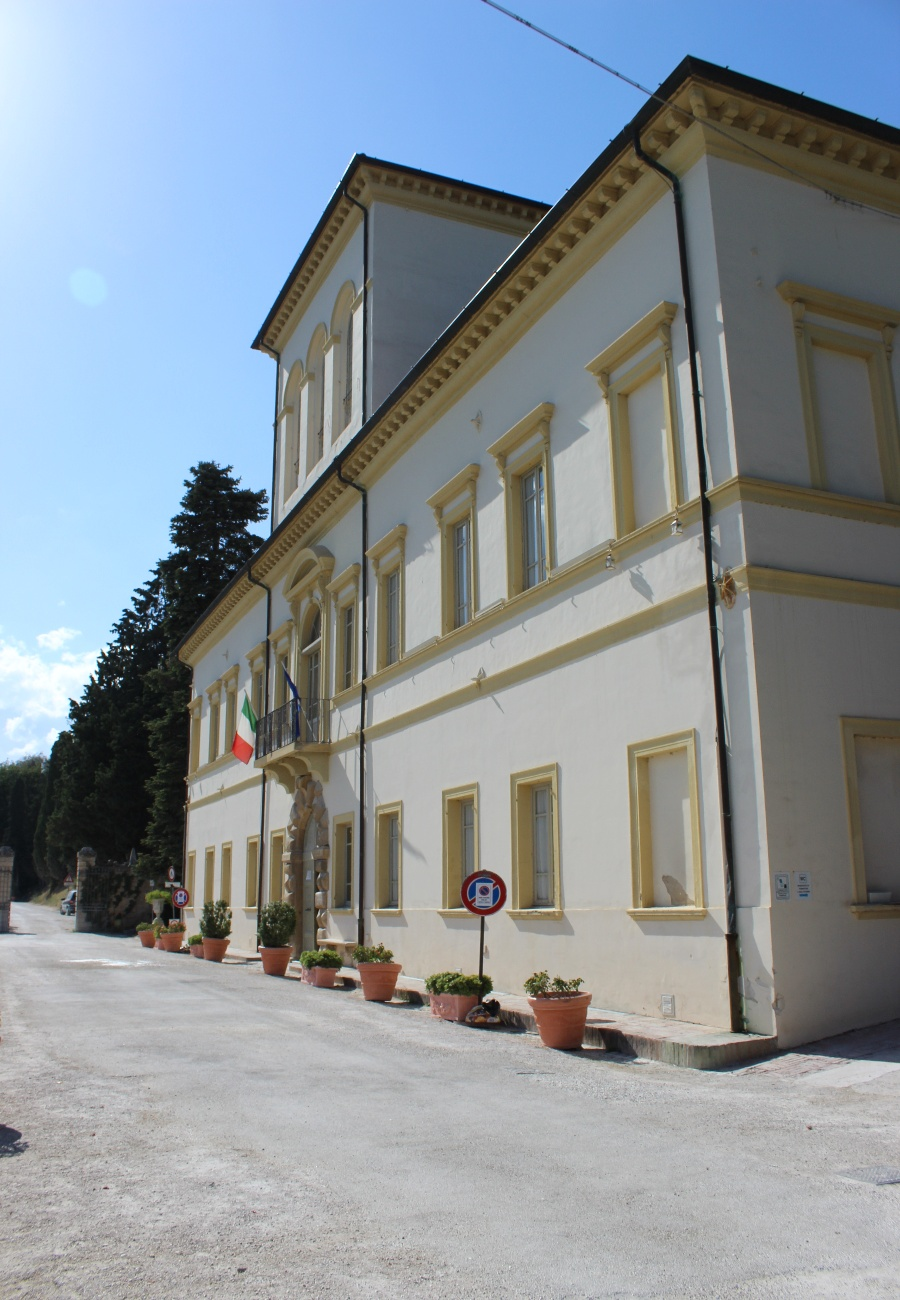Villa Caprile: (169, 55, 754, 1077)
